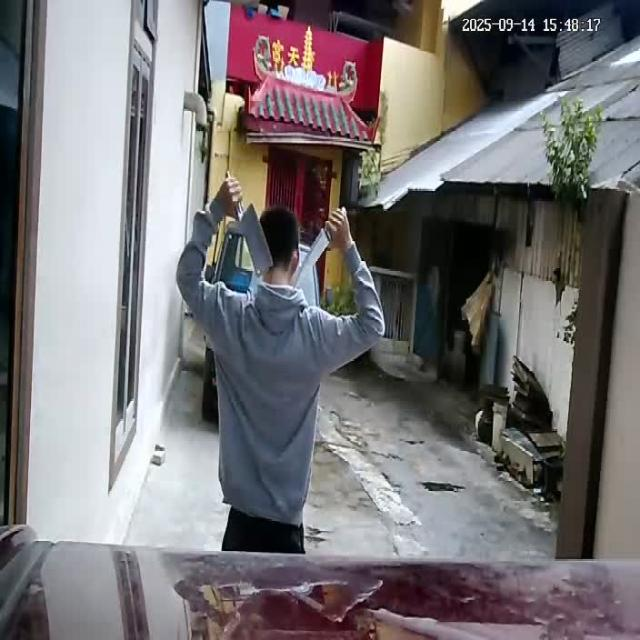senjata_tajam: (236, 200, 276, 278), (290, 228, 333, 292)
